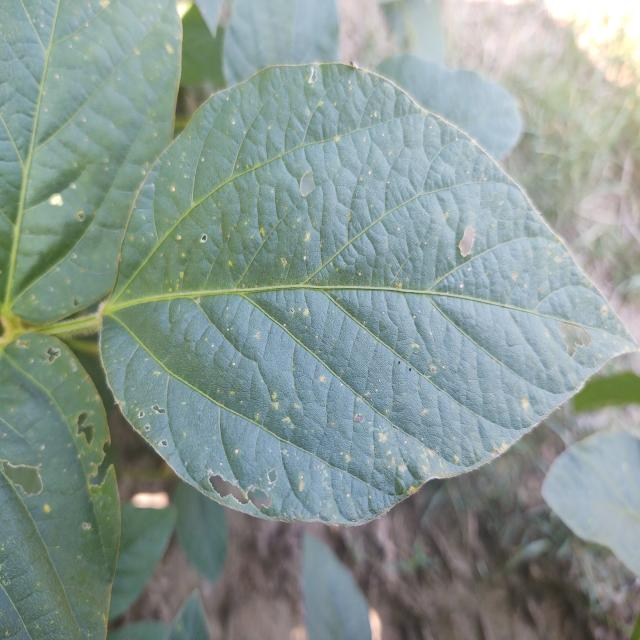Soybean: (93, 62, 639, 529)
downey_mildew: (190, 304, 375, 490), (126, 180, 182, 287), (0, 526, 49, 613), (1, 459, 45, 496), (149, 391, 182, 433), (557, 321, 591, 358), (76, 412, 95, 447), (300, 171, 316, 198), (46, 346, 61, 364), (307, 66, 318, 84), (49, 194, 63, 207), (15, 339, 30, 348), (521, 397, 529, 411), (280, 257, 288, 269), (82, 522, 92, 531), (428, 364, 437, 374), (205, 468, 214, 478), (77, 211, 85, 222), (72, 297, 80, 308), (410, 342, 420, 350), (318, 375, 326, 384), (347, 210, 352, 223), (253, 412, 260, 421), (304, 232, 311, 241), (137, 410, 144, 418), (303, 308, 309, 317), (259, 227, 265, 236), (47, 286, 54, 293), (70, 252, 77, 259), (333, 135, 340, 142), (395, 283, 402, 290), (248, 483, 254, 491), (444, 211, 450, 219), (39, 444, 45, 451), (81, 115, 87, 122), (290, 307, 295, 315), (228, 259, 233, 267), (70, 183, 76, 189), (372, 111, 377, 118), (55, 73, 60, 80), (184, 174, 189, 180), (171, 186, 176, 192), (234, 448, 239, 454), (459, 282, 464, 288), (2, 432, 7, 438), (231, 119, 235, 125), (232, 361, 236, 367), (225, 95, 229, 101), (303, 255, 307, 261), (227, 327, 231, 332), (201, 157, 205, 162), (368, 170, 372, 175), (211, 343, 215, 348), (363, 137, 367, 142), (467, 267, 471, 272), (429, 125, 433, 130), (466, 170, 470, 174), (268, 125, 271, 130)
